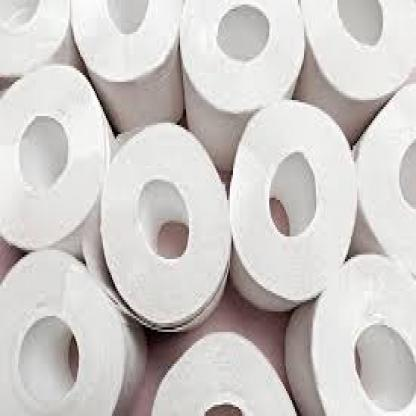tissue: (98, 131, 224, 330), (232, 110, 356, 304)
